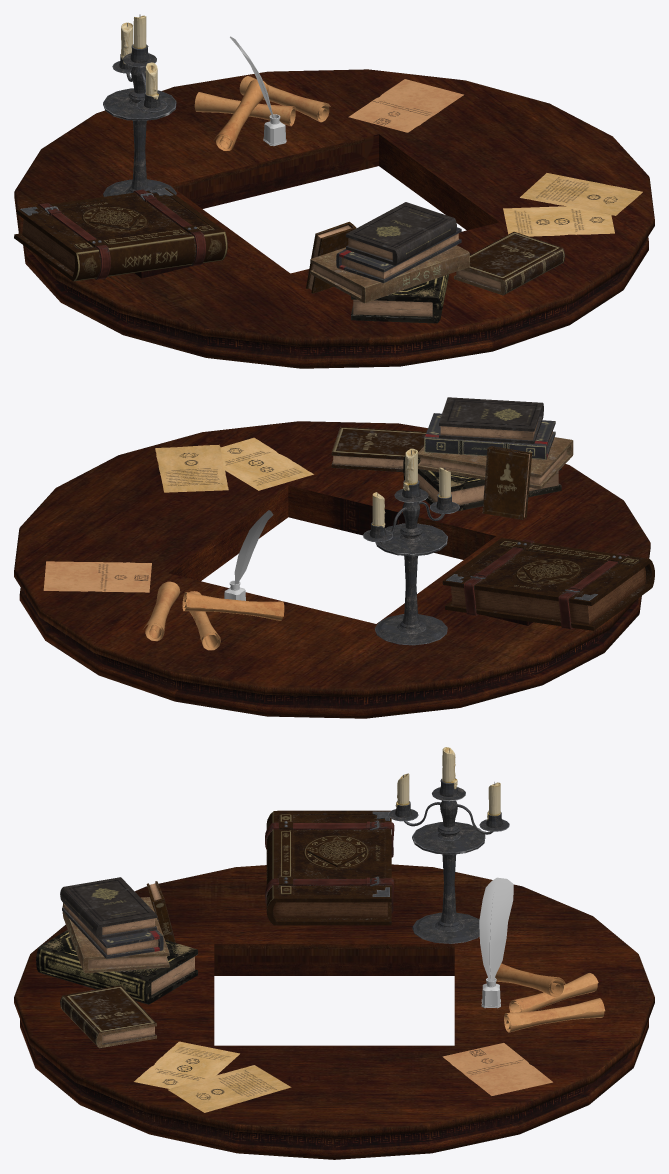
File: table.fbx
3 renders of one model, top to bottom at view 1: azimuth 30°, elevation 25°; view 2: azimuth 150°, elevation 25°; view 3: azimuth 270°, elevation 25°, orthographic.
Visible parts, largest first — view 1: table; view 2: table; view 3: table.
Part boxes in pixels (x1=…): table: x1=14, y1=14, x2=654, y2=368; table: x1=14, y1=397, x2=654, y2=718; table: x1=14, y1=747, x2=654, y2=1159.
Size of the model in its own units: 1716 by 611 by 1677.
